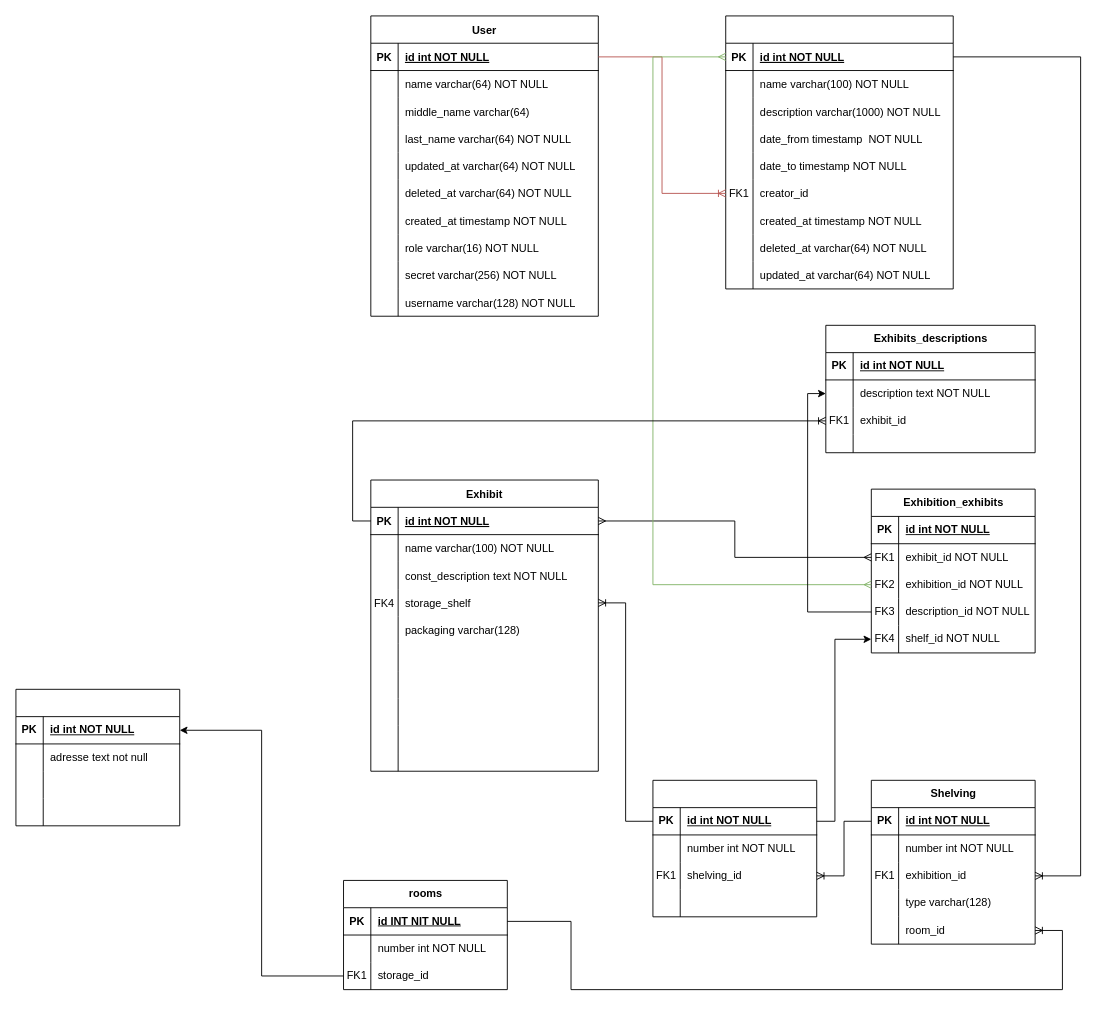
The diagram is 1104 pixels wide and 1013 high, and some of its shapes have lost their labels. Each missing label, with the box of its shape:
Exhibition: (725, 15, 953, 289)
Shelf: (652, 779, 817, 917)
storage: (15, 688, 180, 826)
